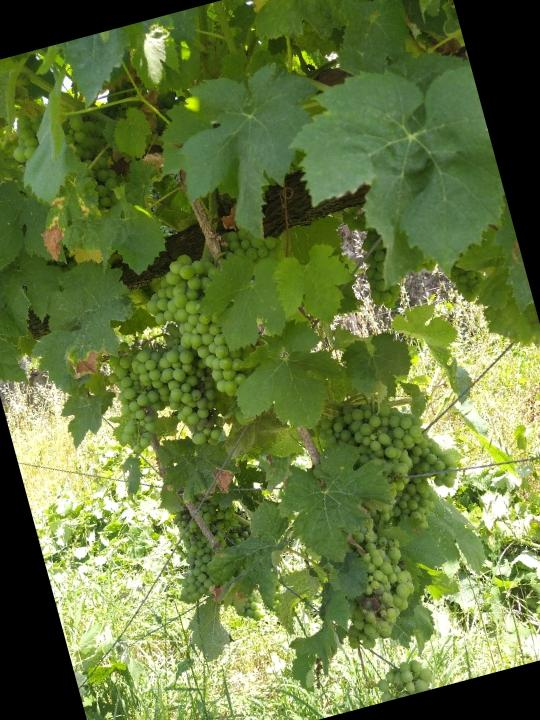grape: (134, 242, 264, 415), (313, 388, 444, 536)
